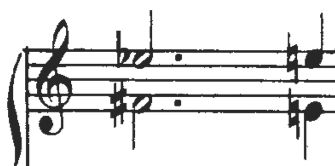treble_clef: (32, 14, 82, 147)
